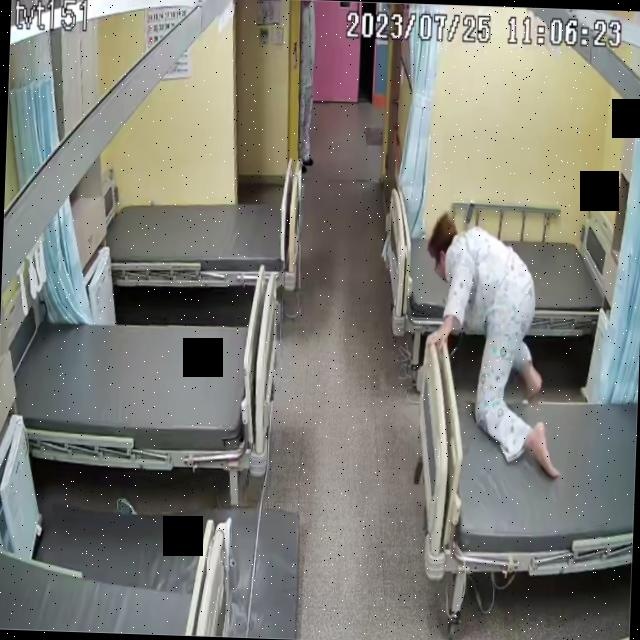bed: (412, 328, 640, 580), (9, 307, 278, 469), (382, 215, 620, 342), (106, 185, 298, 290)
danger: (422, 220, 572, 480)
patient: (420, 220, 571, 482)
